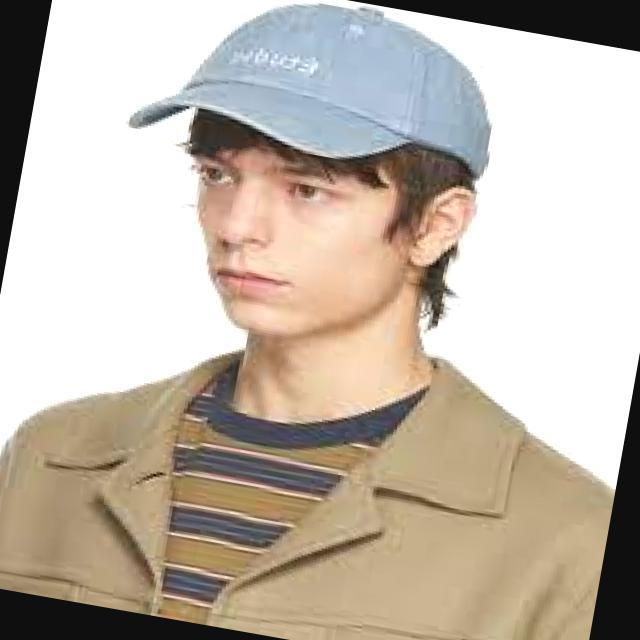cap: (102, 0, 547, 218)
